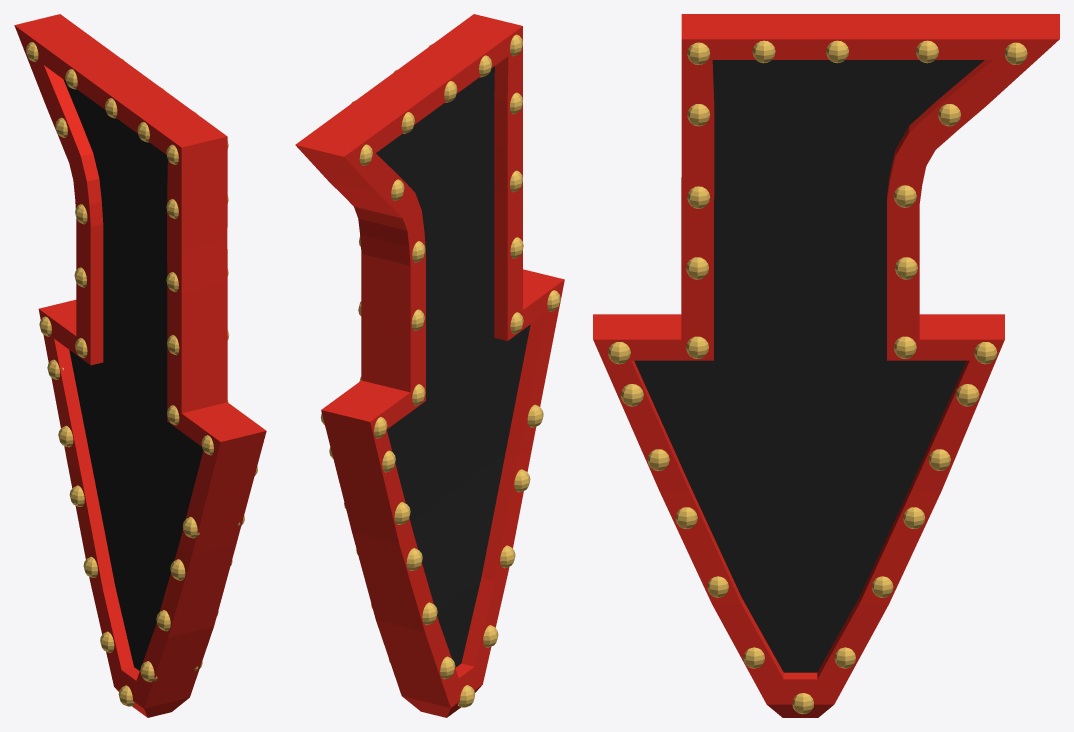
The model's file is seta.fbx.
3 views of the same model, side by side, from view 1: azimuth 30°, elevation 25°; view 2: azimuth 150°, elevation 25°; view 3: azimuth 270°, elevation 25° (orthographic). The views are drawn at different scales.
Visible parts, largest first — view 1: Cube; view 2: Cube; view 3: Cube.
Part boxes in pixels (box(x1,y1,x2,y2)): Cube: box(14, 14, 266, 717); Cube: box(295, 14, 564, 717); Cube: box(593, 14, 1059, 717).
Bounding box in the file's own units: 67.06 × 630 × 389.
